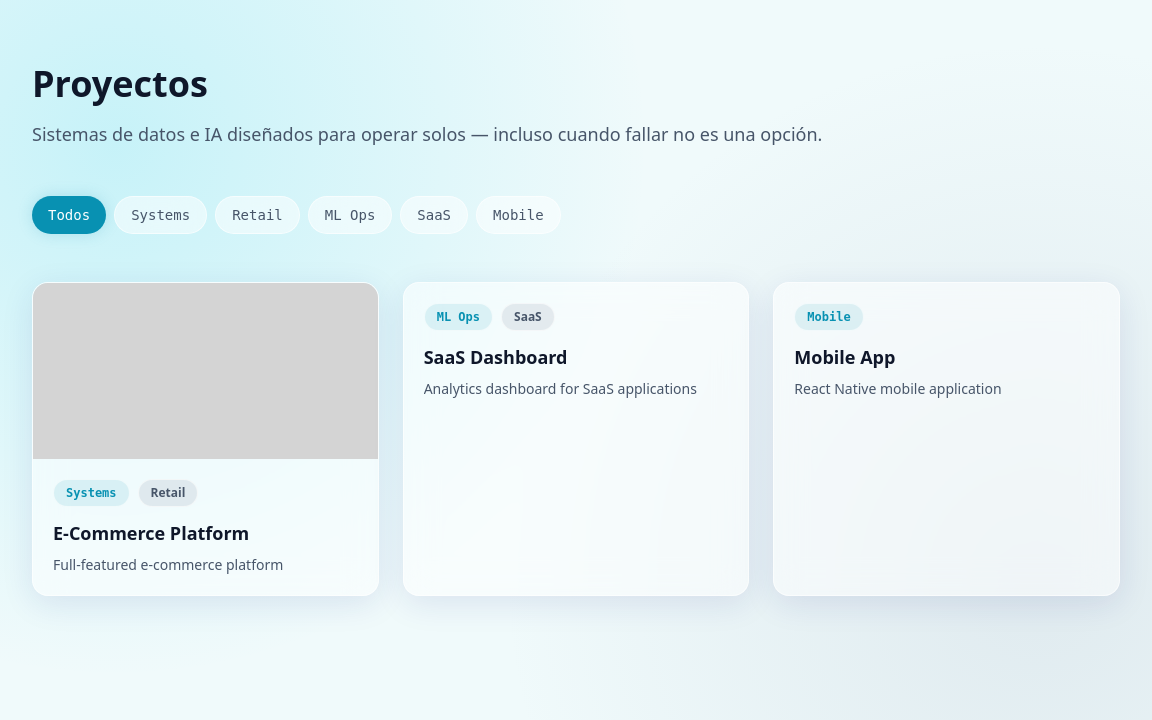
ProjectsPage › filters projects by selected category
Step 1. Click the button "Systems" → point(161, 215), box [114,196,207,234]
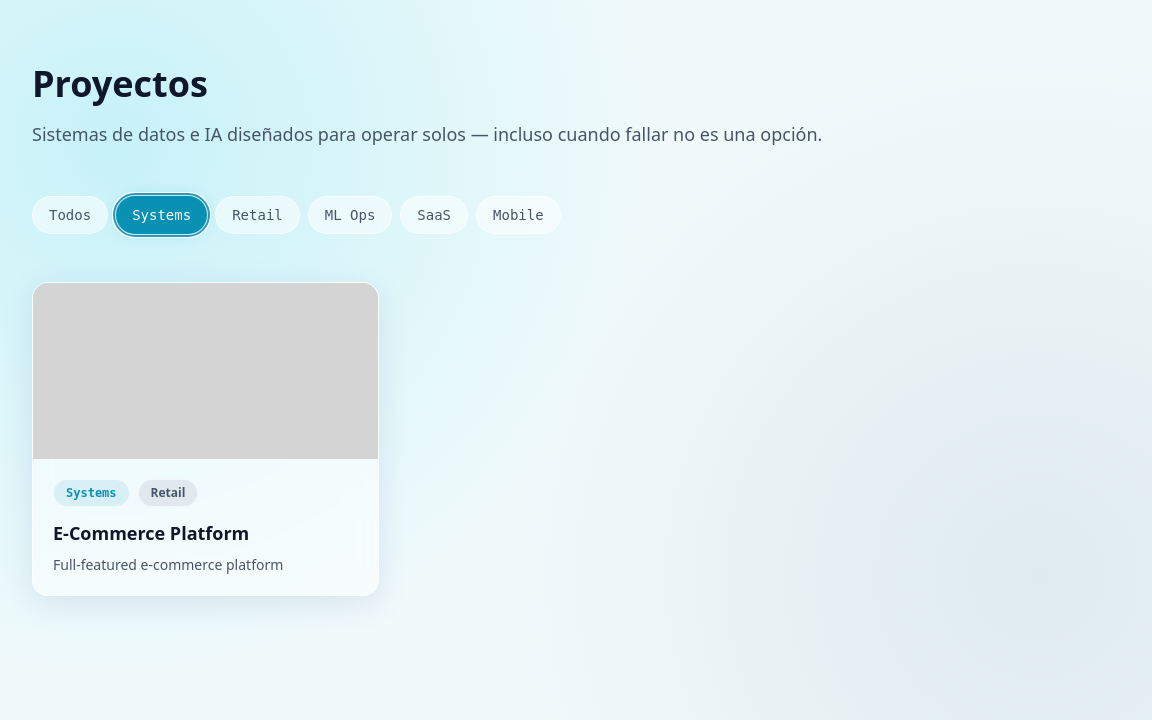
Expected: the heading "E-Commerce Platform" is shown, [53,521,249,545]
Expected: the link "Mobile App" is gone
